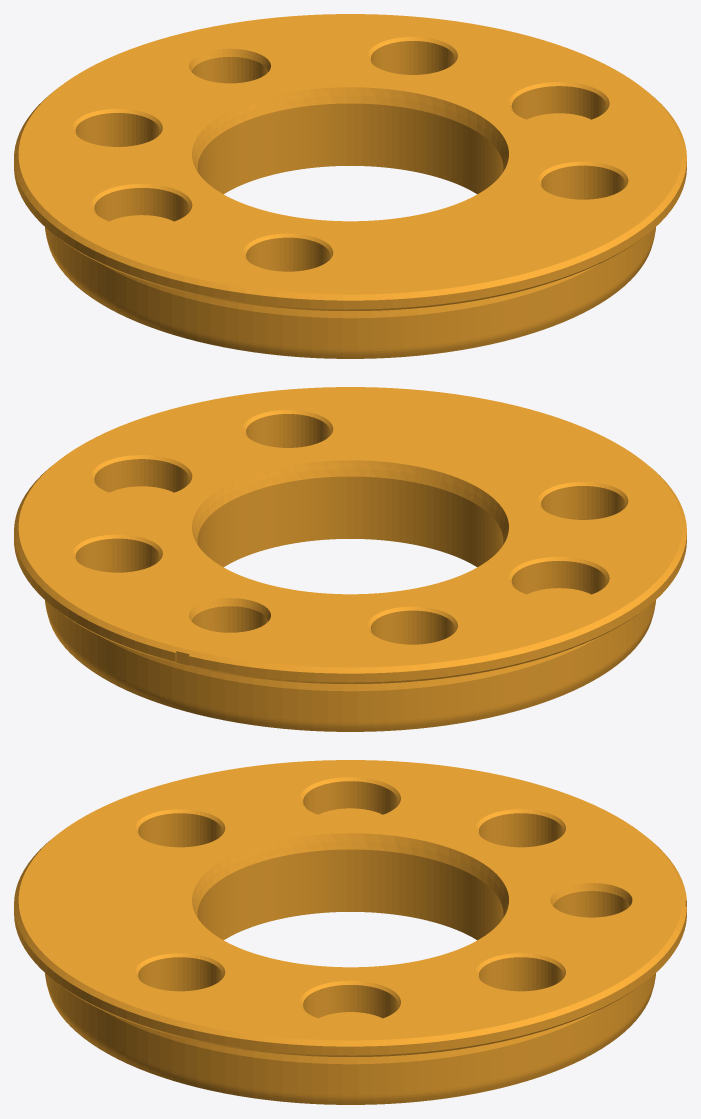
The model's file is ABBIRB1200Link6.dae.
3 views of the same model, one above another, from view 1: azimuth 30°, elevation 25°; view 2: azimuth 150°, elevation 25°; view 3: azimuth 270°, elevation 25° (orthographic).
Visible parts, largest first — view 1: ABBIRB1200Link6; view 2: ABBIRB1200Link6; view 3: ABBIRB1200Link6.
Boxes of the visible parts, x1,y1,x2,y2 form: ABBIRB1200Link6: (14, 14, 686, 358); ABBIRB1200Link6: (14, 387, 686, 731); ABBIRB1200Link6: (14, 760, 686, 1104).
Size of the model in its own units: 0.044 by 0.044 by 0.0055.
